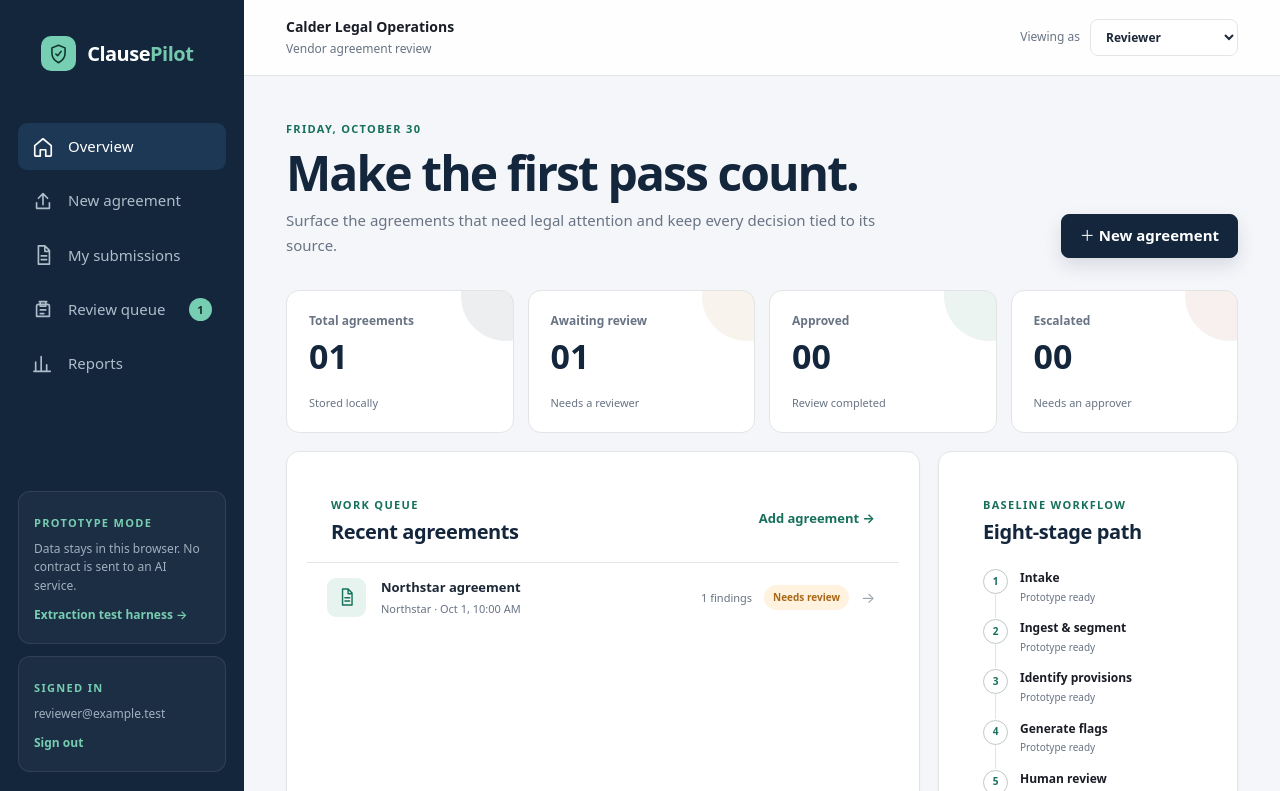
Test: manual finding validation › requires a reviewer reason before a decision can be recorded
Click the button "Review queue 1".
click(122, 309)  # box left=18, top=286, right=226, bottom=333
(page scrolled)
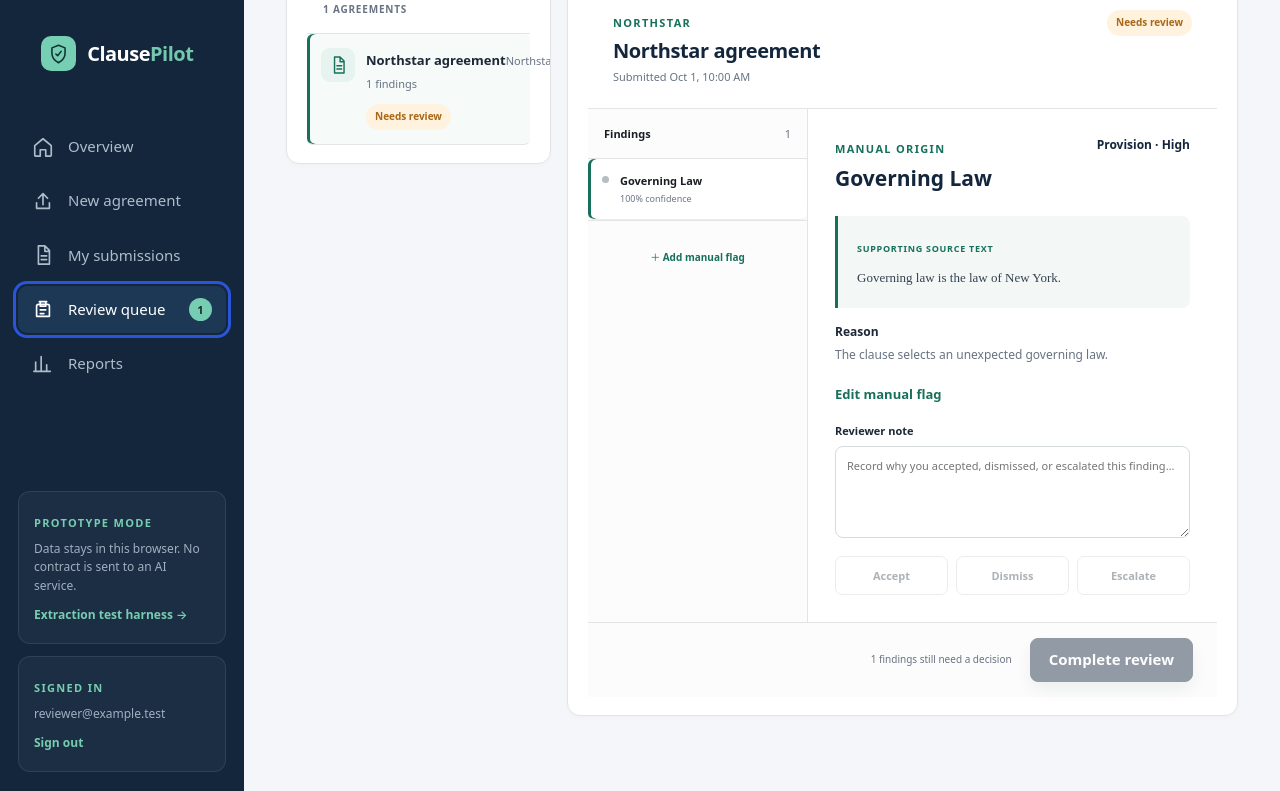
Now the button "Accept" is disabled, box left=835, top=556, right=948, bottom=595
Type "This provision is materially relevant and should be accepted" into the text box labelled "Reviewer note".
click(1012, 492); type("This provision is materially relevant and should be accepted")  # box left=835, top=446, right=1190, bottom=538
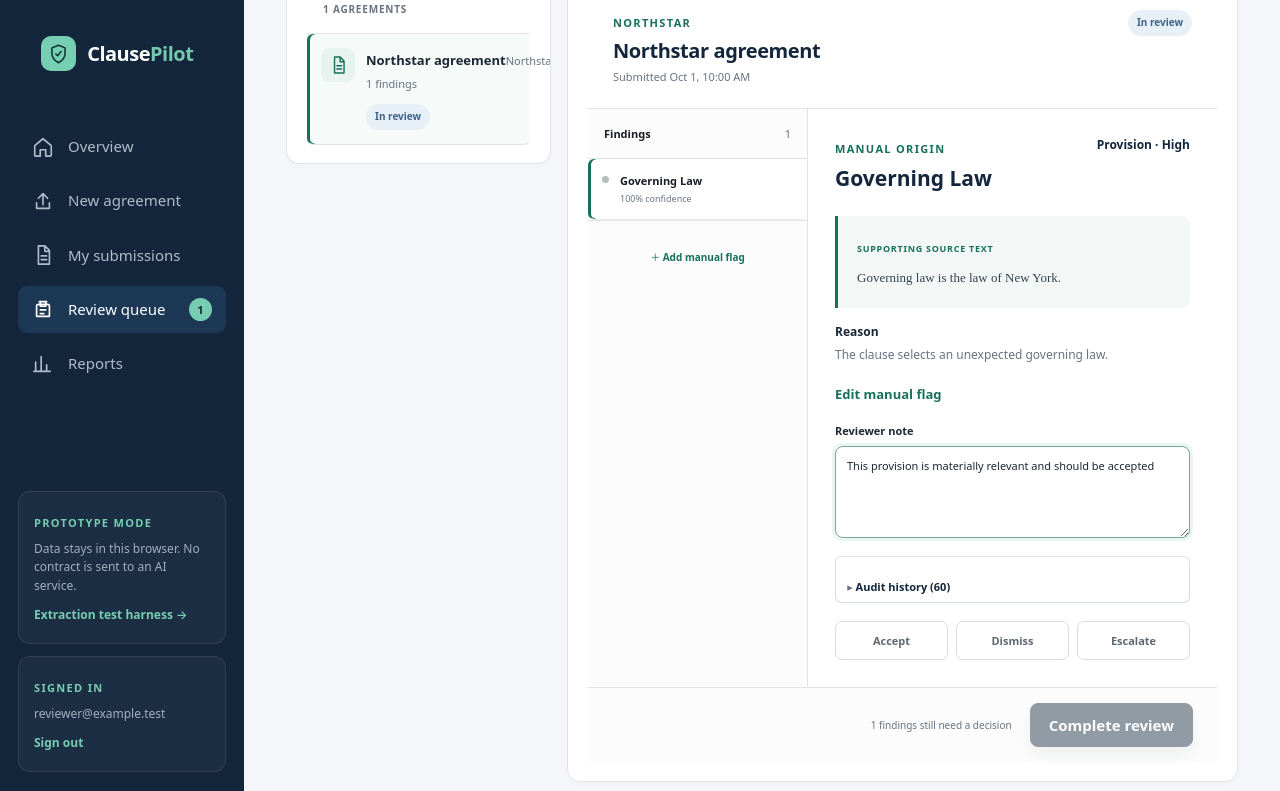
Now the button "Accept" is enabled, box left=835, top=621, right=948, bottom=660
